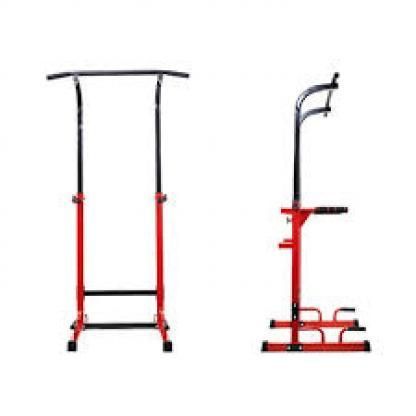chinning dipping: (45, 67, 191, 353), (259, 71, 372, 354)
